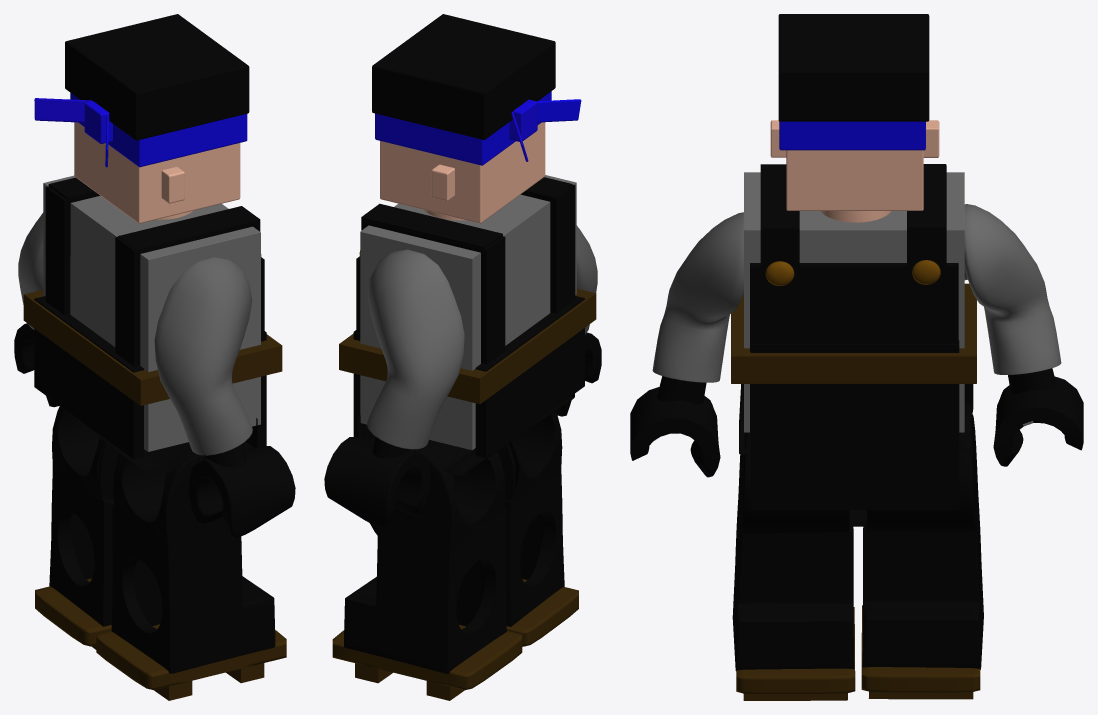
The model's file is Bonito Factory new character B.fbx.
3 views of the same model, side by side, from view 1: azimuth 30°, elevation 25°; view 2: azimuth 150°, elevation 25°; view 3: azimuth 270°, elevation 25° (orthographic). The views are drawn at different scales.
Visible parts, largest first — view 1: body, head, right leg, right arm, left leg, left arm; view 2: body, head, left leg, left arm, right leg, right arm; view 3: body, head, left leg, right leg, left arm, right arm.
Boxes of the visible parts, <box> form: body: <box>23,175,282,500</box>; head: <box>34,14,249,223</box>; right leg: <box>96,442,286,700</box>; right arm: <box>154,257,295,537</box>; left leg: <box>35,406,119,649</box>; left arm: <box>14,212,58,407</box>; body: <box>339,175,596,487</box>; head: <box>372,14,581,223</box>; left leg: <box>332,440,522,700</box>; left arm: <box>324,249,464,528</box>; right leg: <box>498,411,578,646</box>; right arm: <box>556,225,601,416</box>; body: <box>731,164,976,526</box>; head: <box>770,14,939,210</box>; left leg: <box>861,411,983,699</box>; right leg: <box>732,432,855,700</box>; left arm: <box>964,204,1083,466</box>; right arm: <box>630,212,743,477</box>.
Bounding box in the file's own units: 680 × 2271 × 1481.
